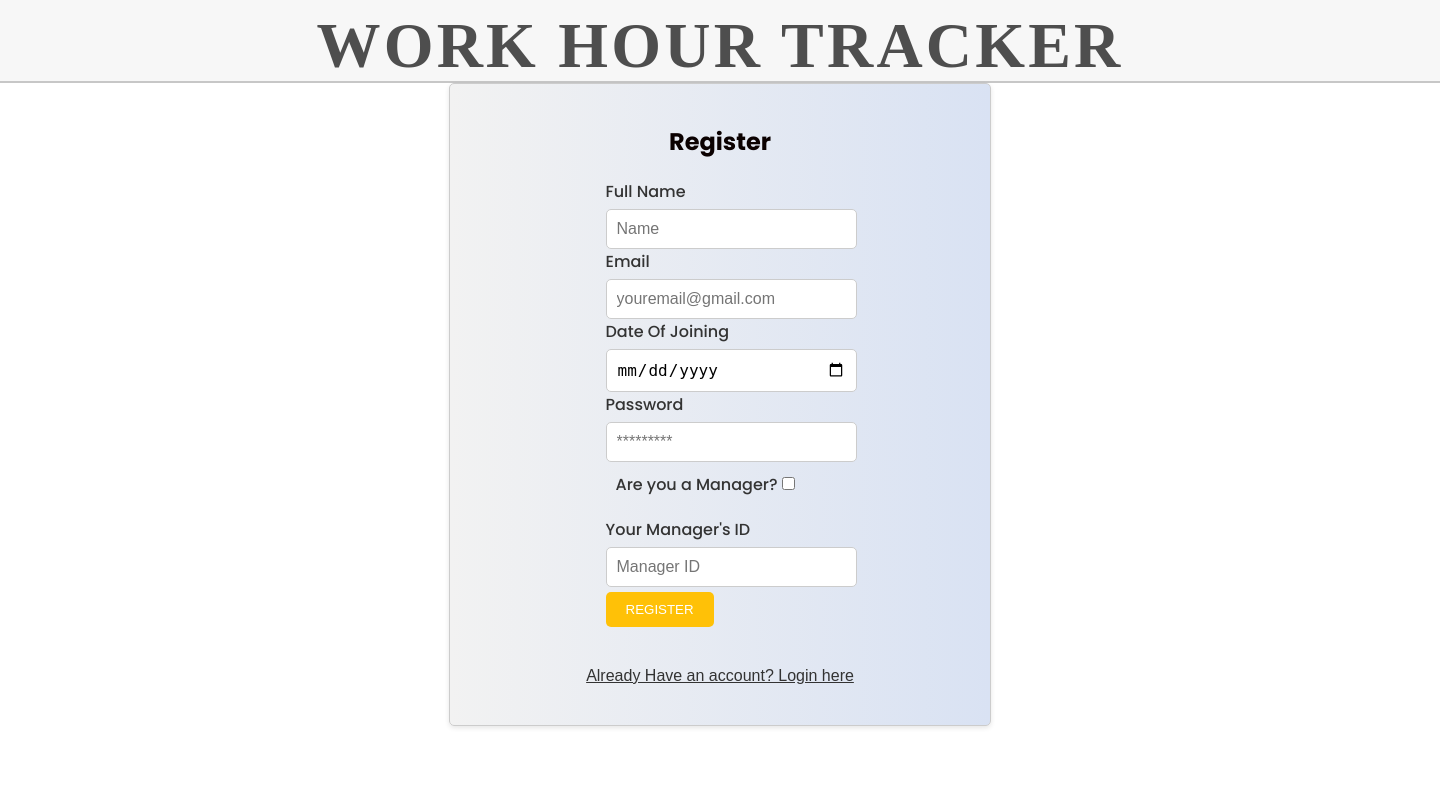
Test: Register component › displays error message on form submission failure
Click the button "REGISTER": coordinates (660, 609) [606,592,714,627]
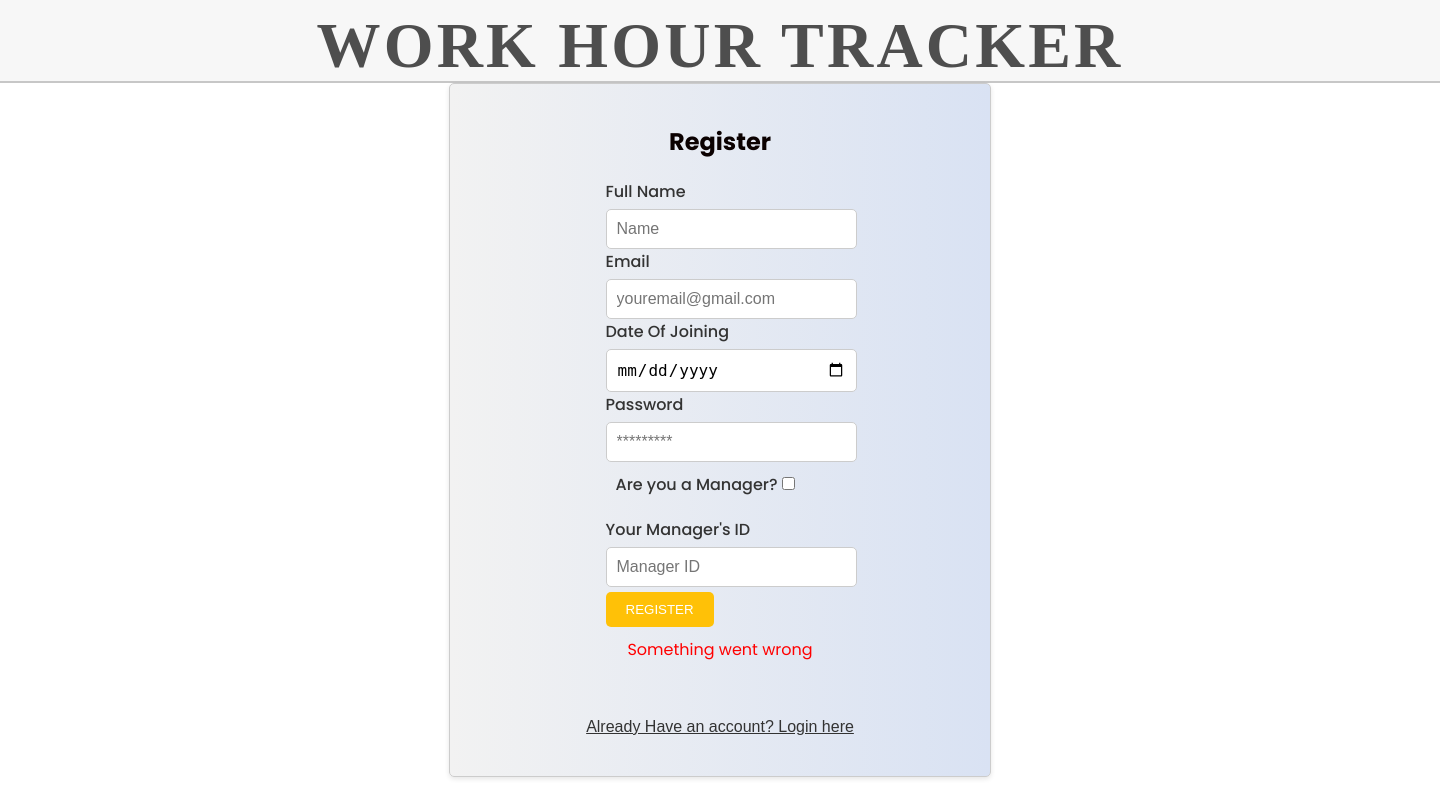
Result: the text "Something went wrong" is shown at [627,637,812,662]
